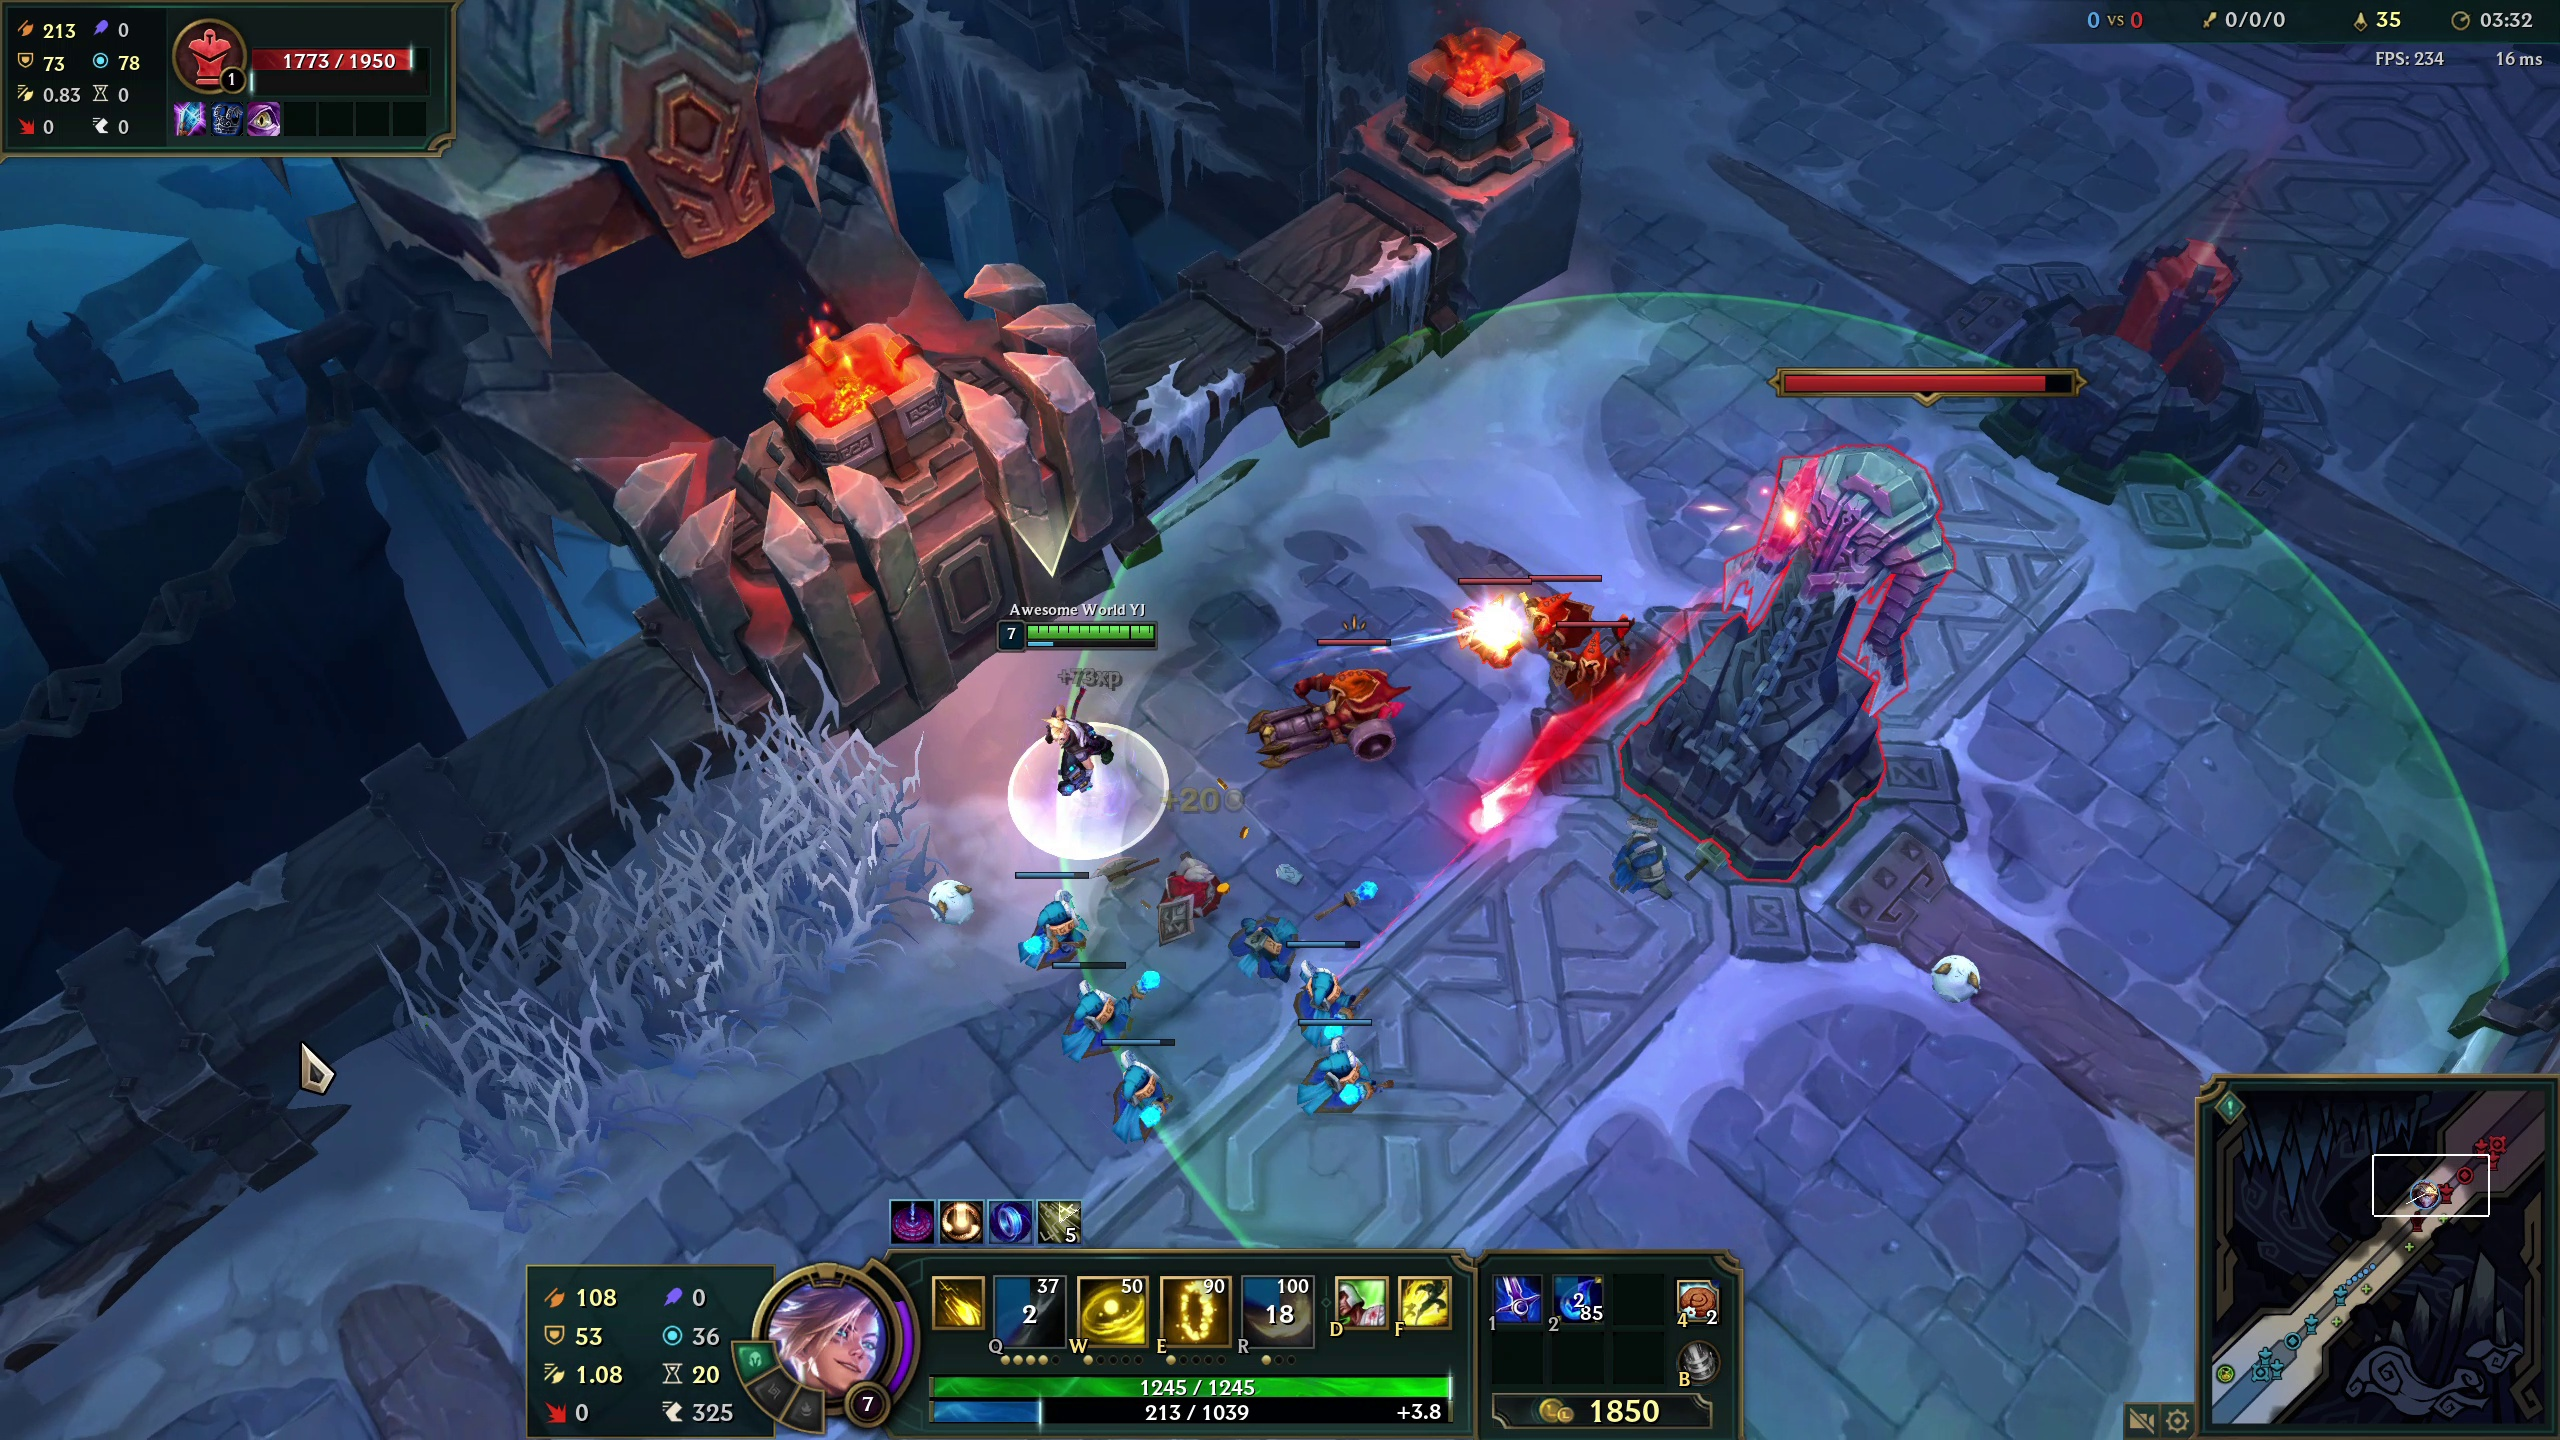EZ: (1027, 621, 1136, 856)
EnemyMinion: (1521, 559, 1602, 645), (1451, 577, 1519, 668), (1565, 621, 1626, 700)
EnemySuperMinnion: (1245, 612, 1421, 781)
Glass: (476, 788, 830, 1034)
Inhibitor: (2027, 280, 2259, 471)
MyMinion: (1044, 942, 1136, 1043), (1296, 1016, 1387, 1116), (1289, 927, 1380, 1027), (1102, 1037, 1194, 1136), (1006, 863, 1095, 962)
Turret: (1647, 452, 1936, 870)
